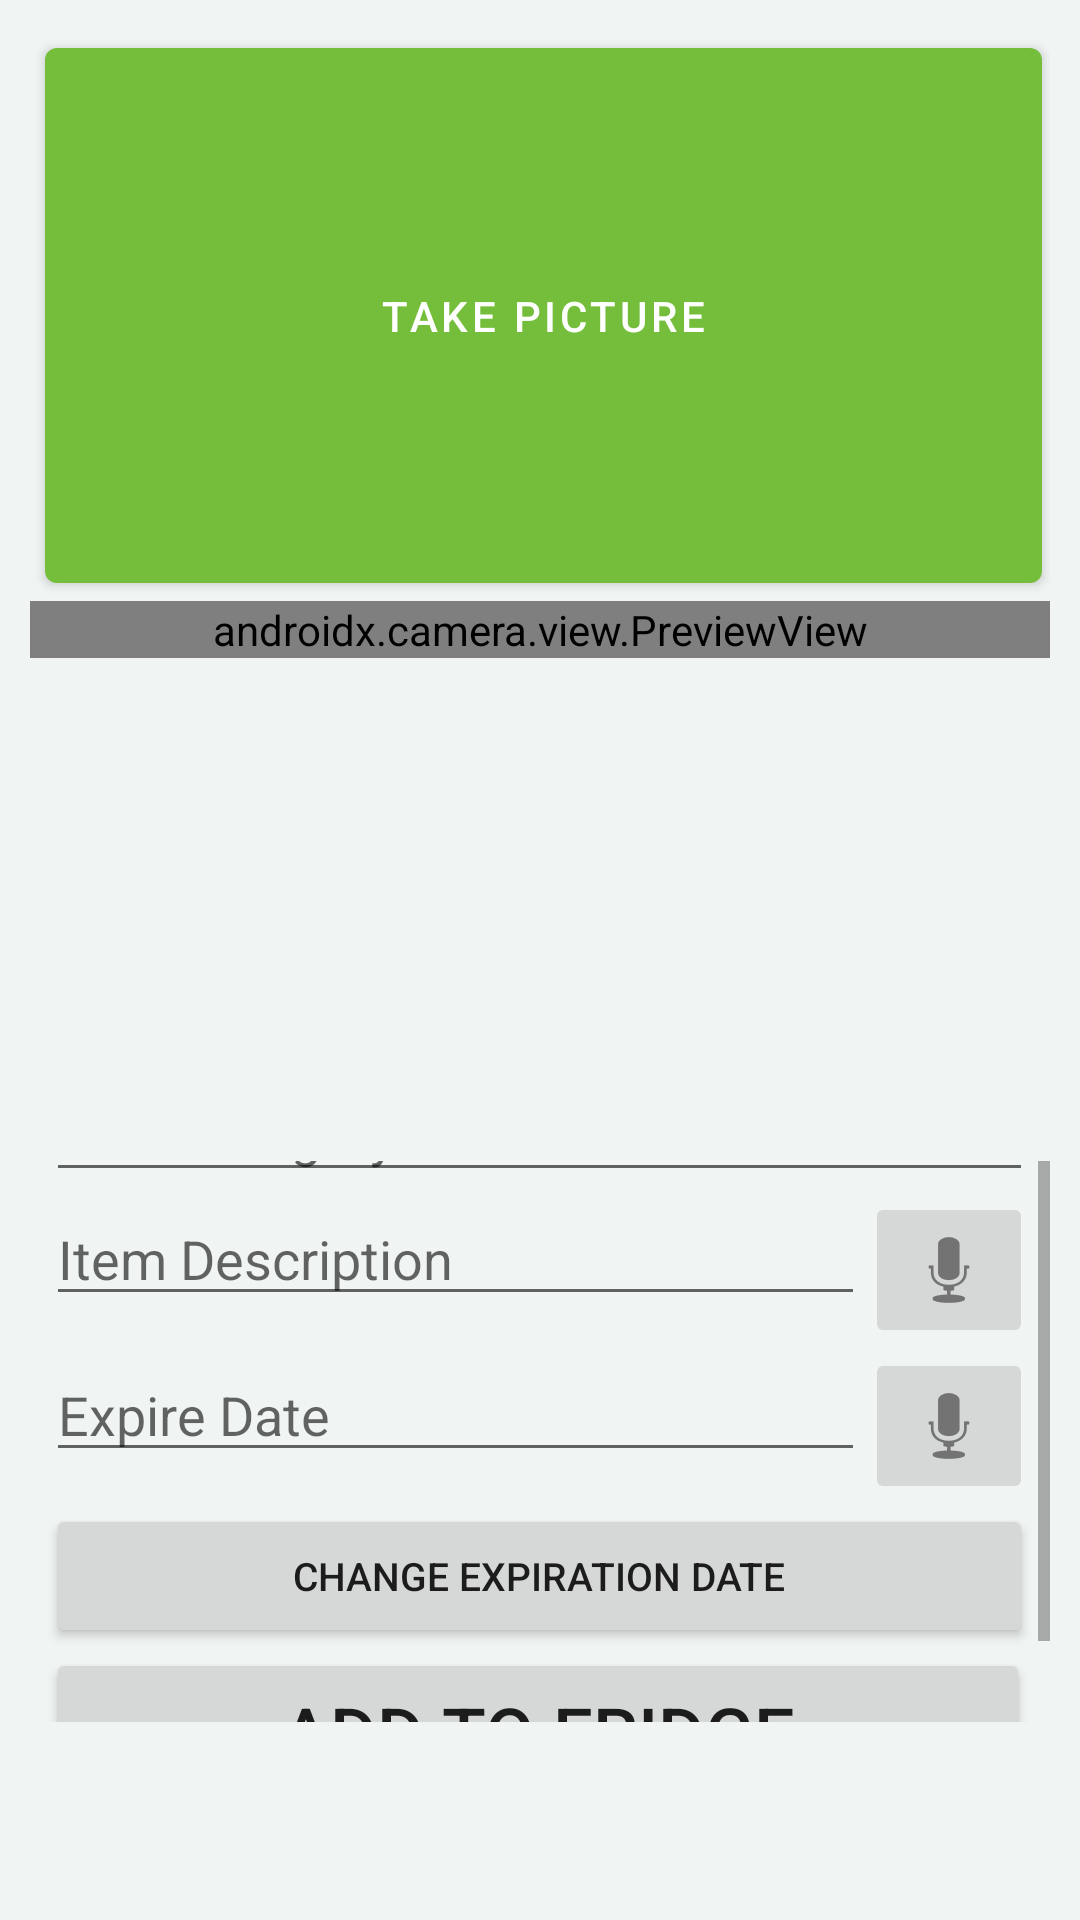

Point at icon controls on the screen. Image size 1080px x 1920px, points as (x=x, y=y).
Voice input for expiration date: (x=949, y=1426)
